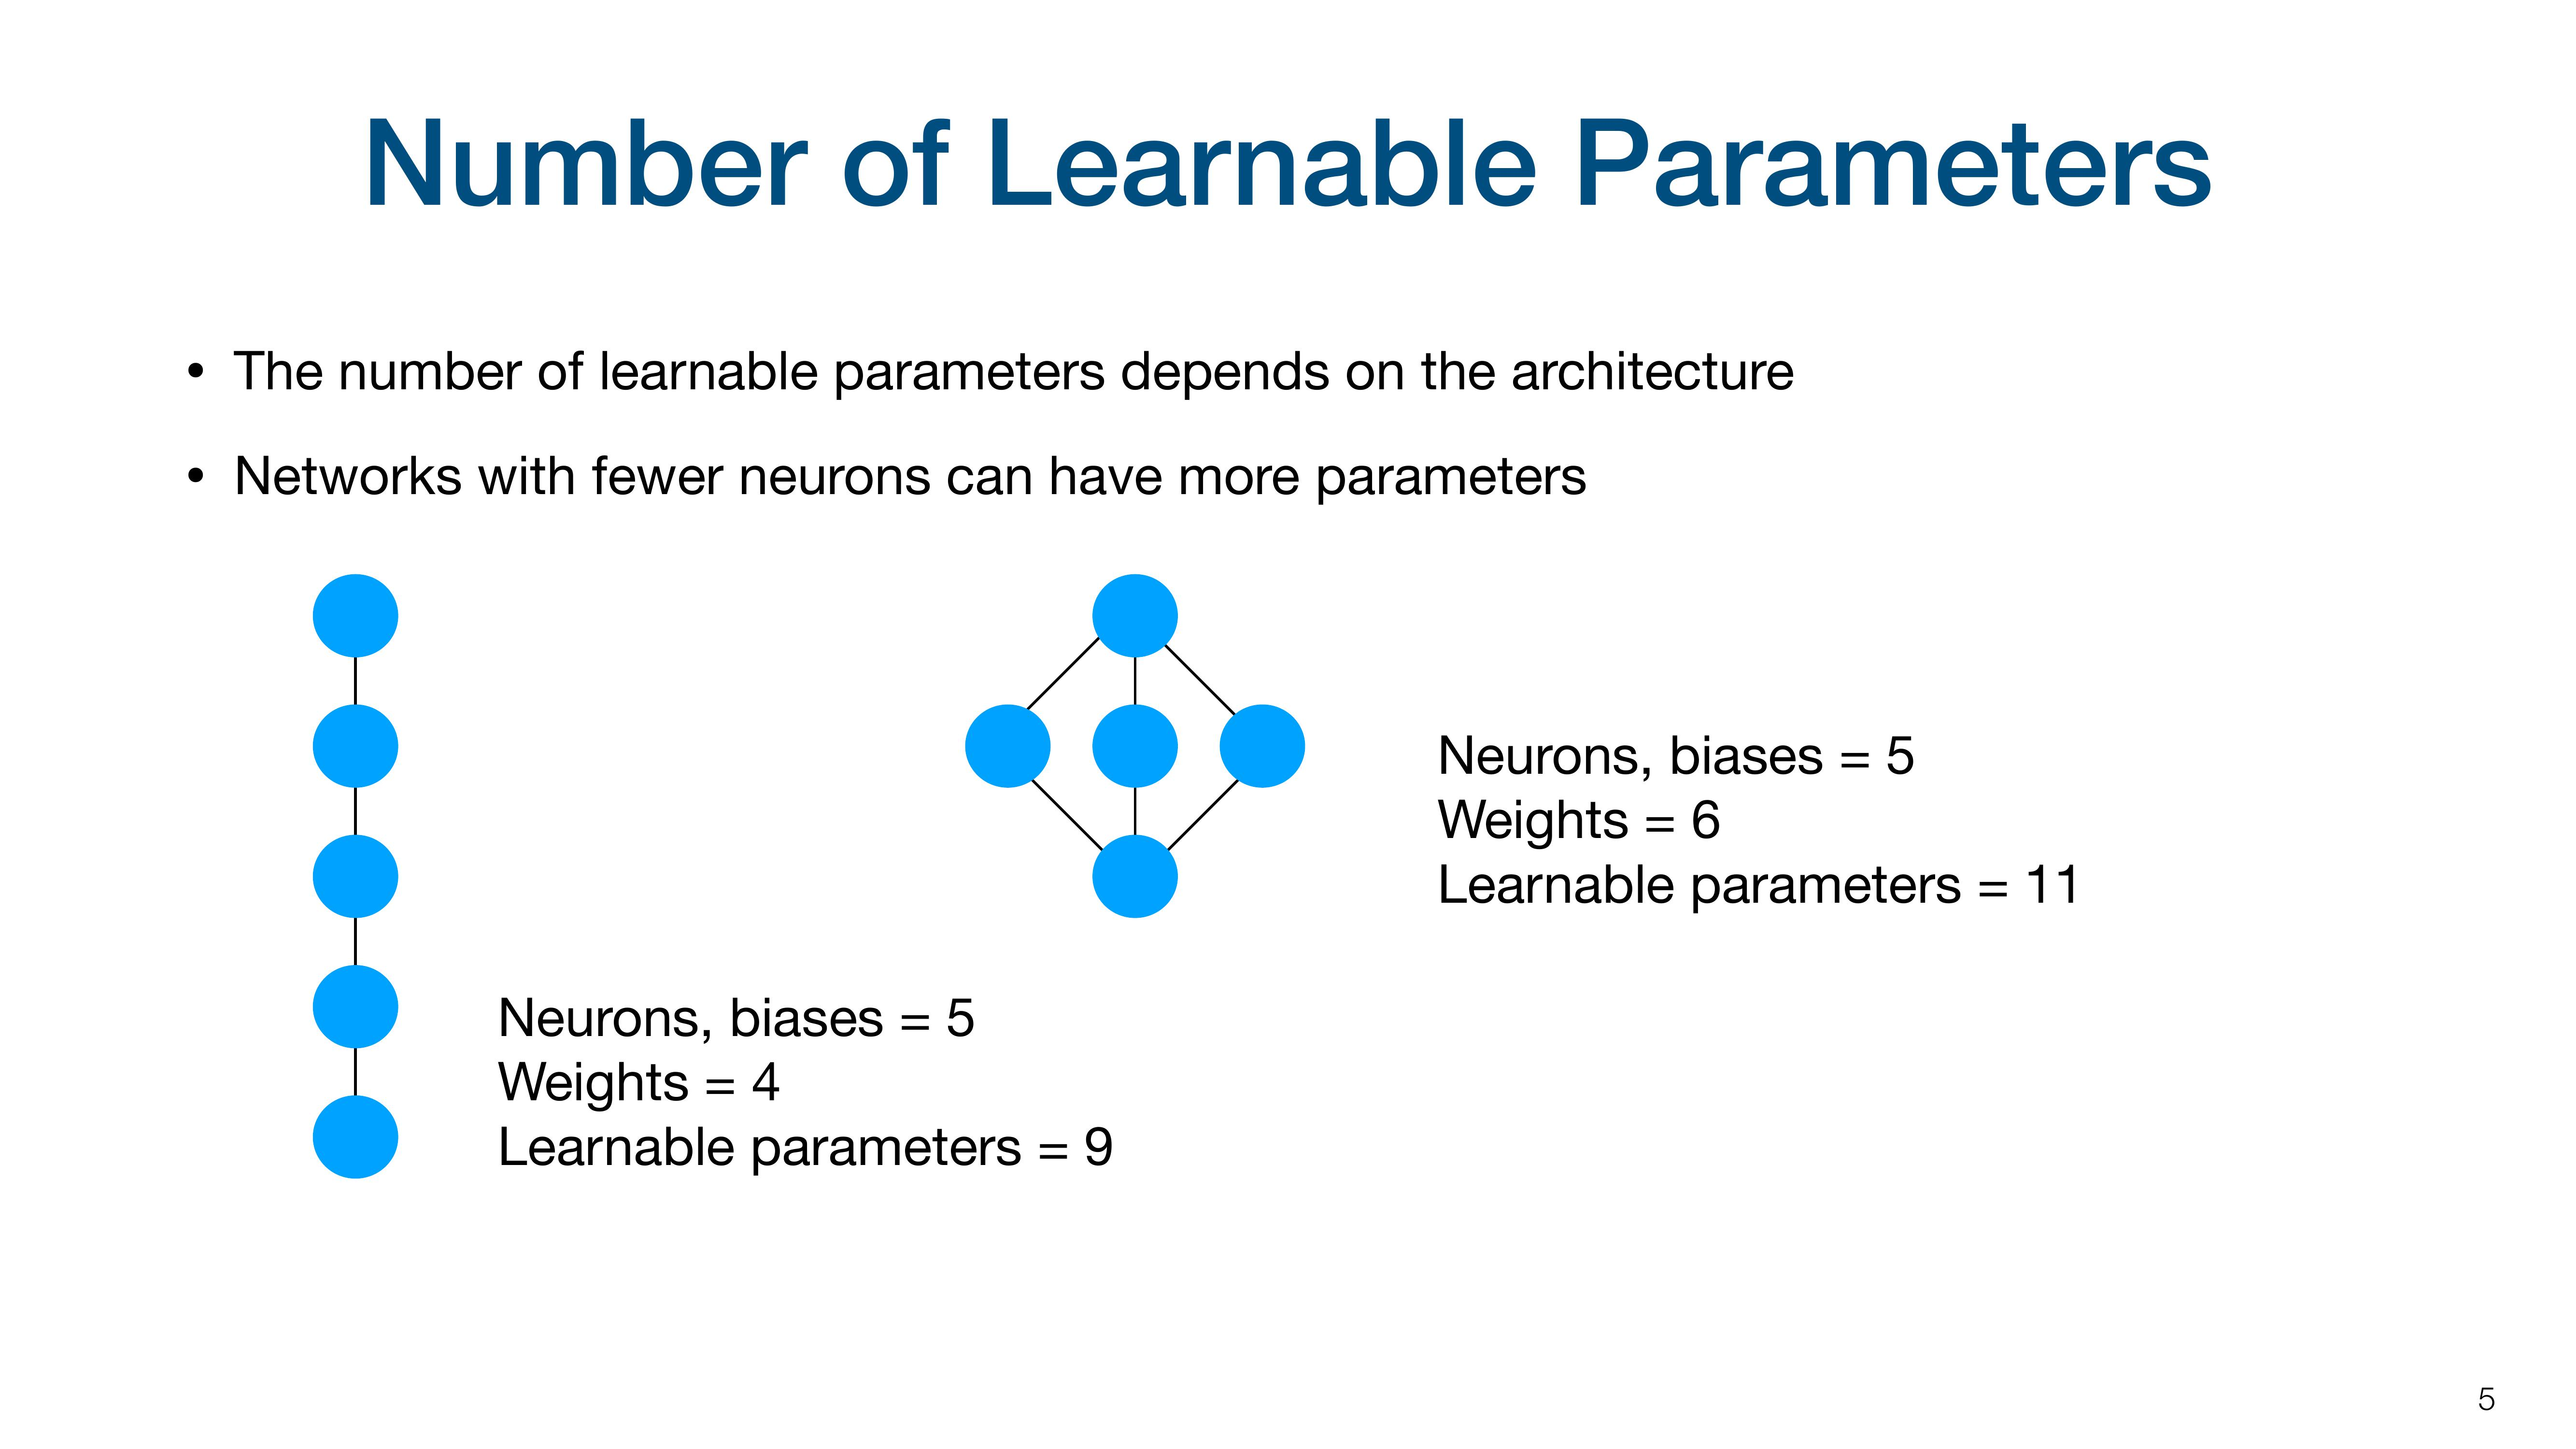Title: (345, 88, 2227, 234)
